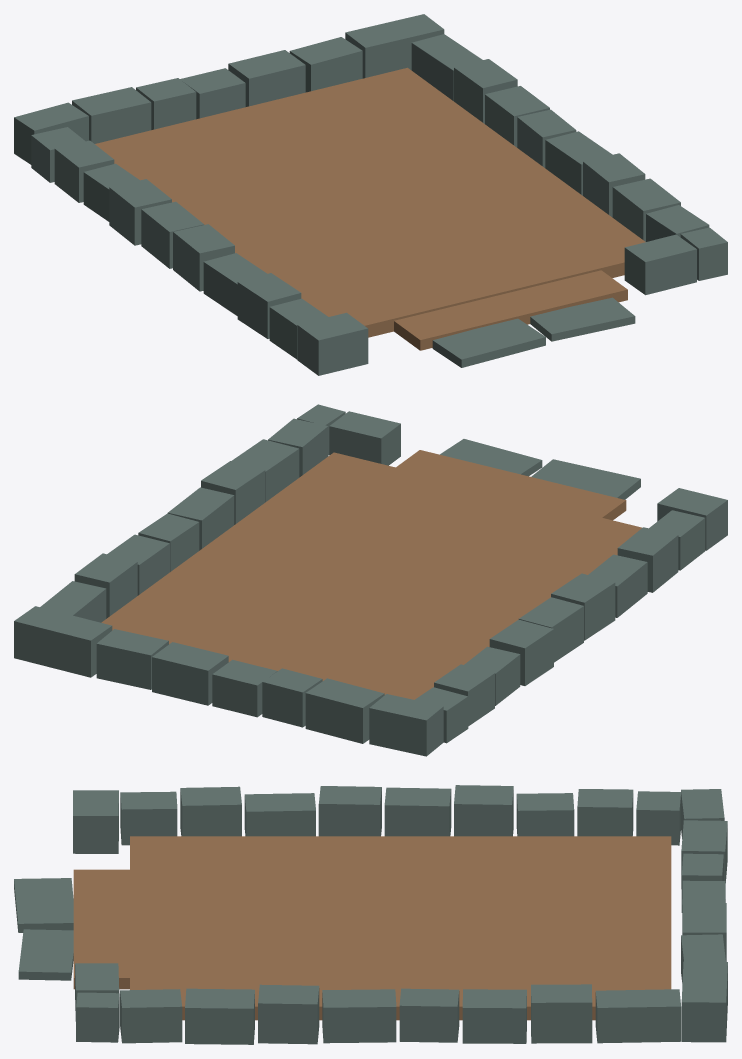
File: shelter-foundation.glb
3 views of the same model, one above another, from view 1: azimuth 30°, elevation 25°; view 2: azimuth 150°, elevation 25°; view 3: azimuth 270°, elevation 25° (orthographic). The views are drawn at different scales.
Visible parts, largest first — view 1: floor, stone_footing; view 2: floor, stone_footing; view 3: floor, stone_footing.
Boxes of the visible parts, <box> form: floor: <box>95,67,645,350</box>; stone_footing: <box>14,14,727,375</box>; floor: <box>101,450,641,699</box>; stone_footing: <box>14,404,727,756</box>; floor: <box>73,836,671,1020</box>; stone_footing: <box>14,785,727,1044</box>.
Size of the model in its own units: 4.14 by 0.3592 by 5.7.
